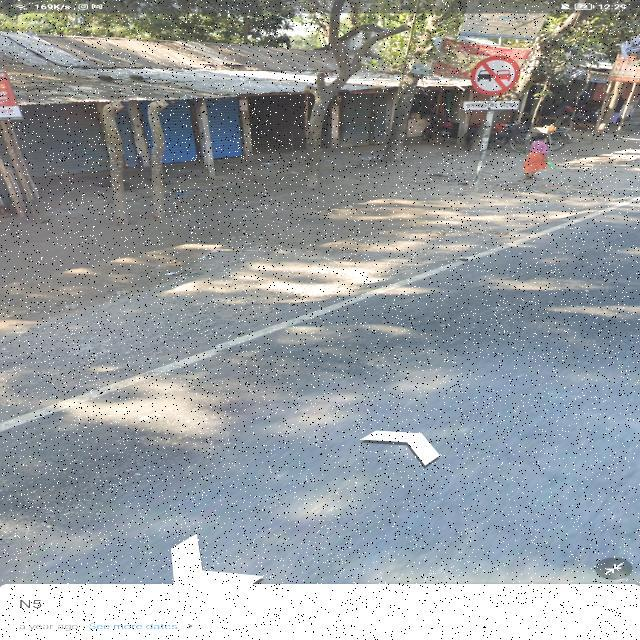Don-t-Overtracking: (460, 39, 521, 147)
